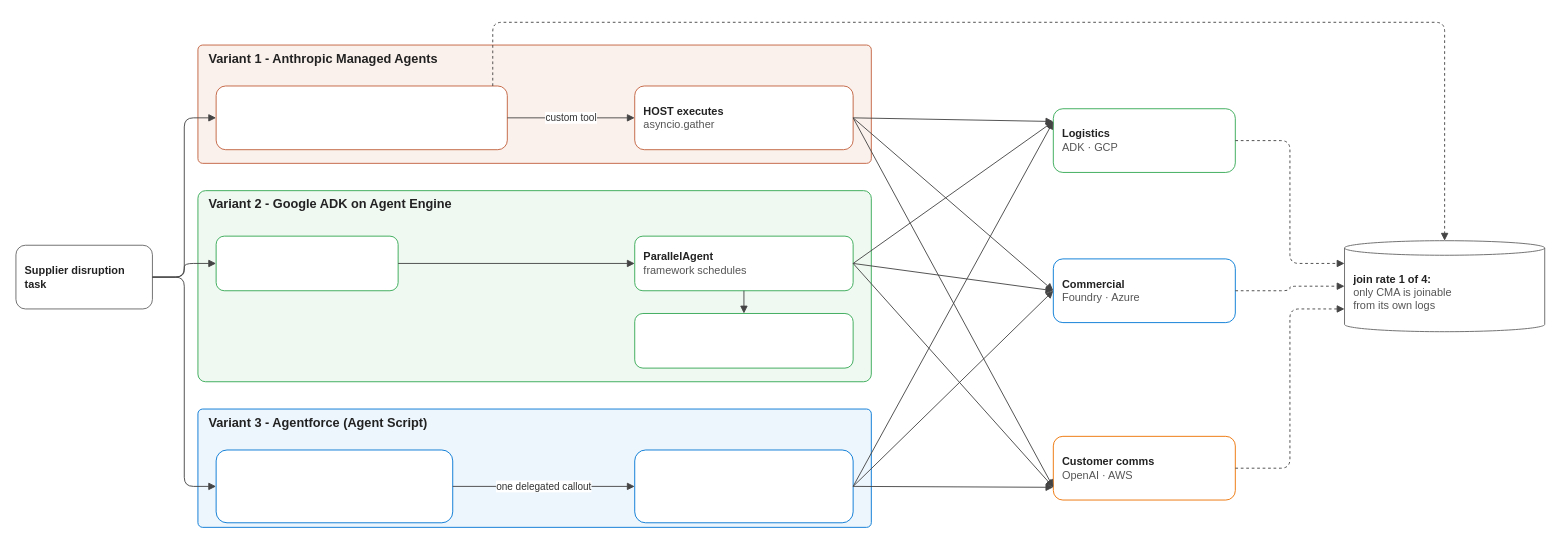
Image size: 1561x543. Some labels were removed from this diagram. Each missing label, with the centre of its shape:
"Lab bridge fanout: route runs orchestration.dispatch off-platform" belongs at pixel 743 486.
"Orchestrator agent declarative: prompt + tool schema" belongs at pixel 361 117.
"Orchestrator agent serial Apex is its only outbound" belongs at pixel 334 486.
"SequentialAgent" belongs at pixel 306 263.
"synthesiser reads state keys" belongs at pixel 743 340.
